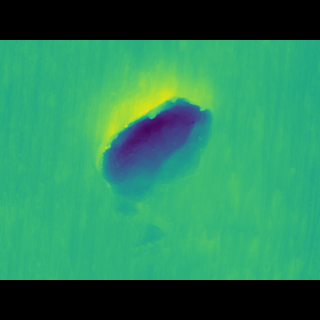Loch: (83, 103, 219, 204)
